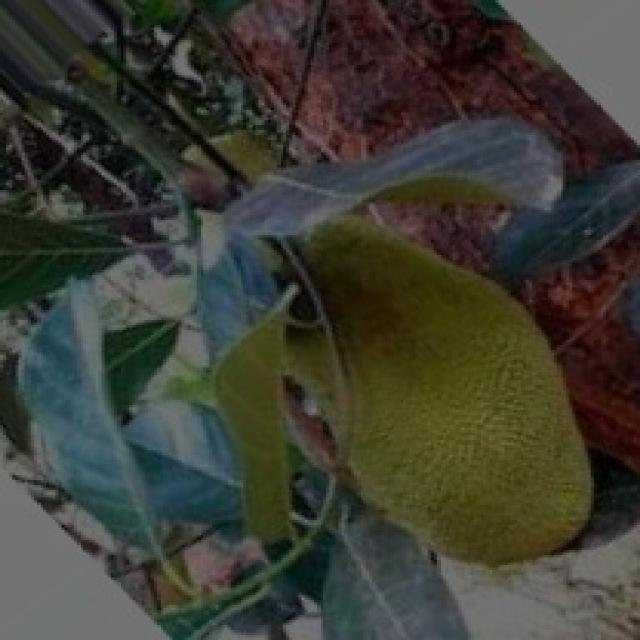Fruit: (274, 193, 621, 595)
